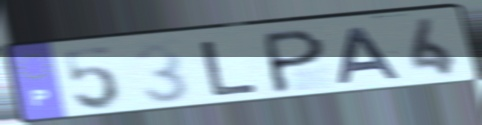3: (134, 41, 192, 106)
4: (408, 15, 461, 80)
5: (60, 44, 124, 113)
A: (335, 25, 405, 86)
L: (199, 38, 262, 98)
P: (264, 26, 328, 95)
